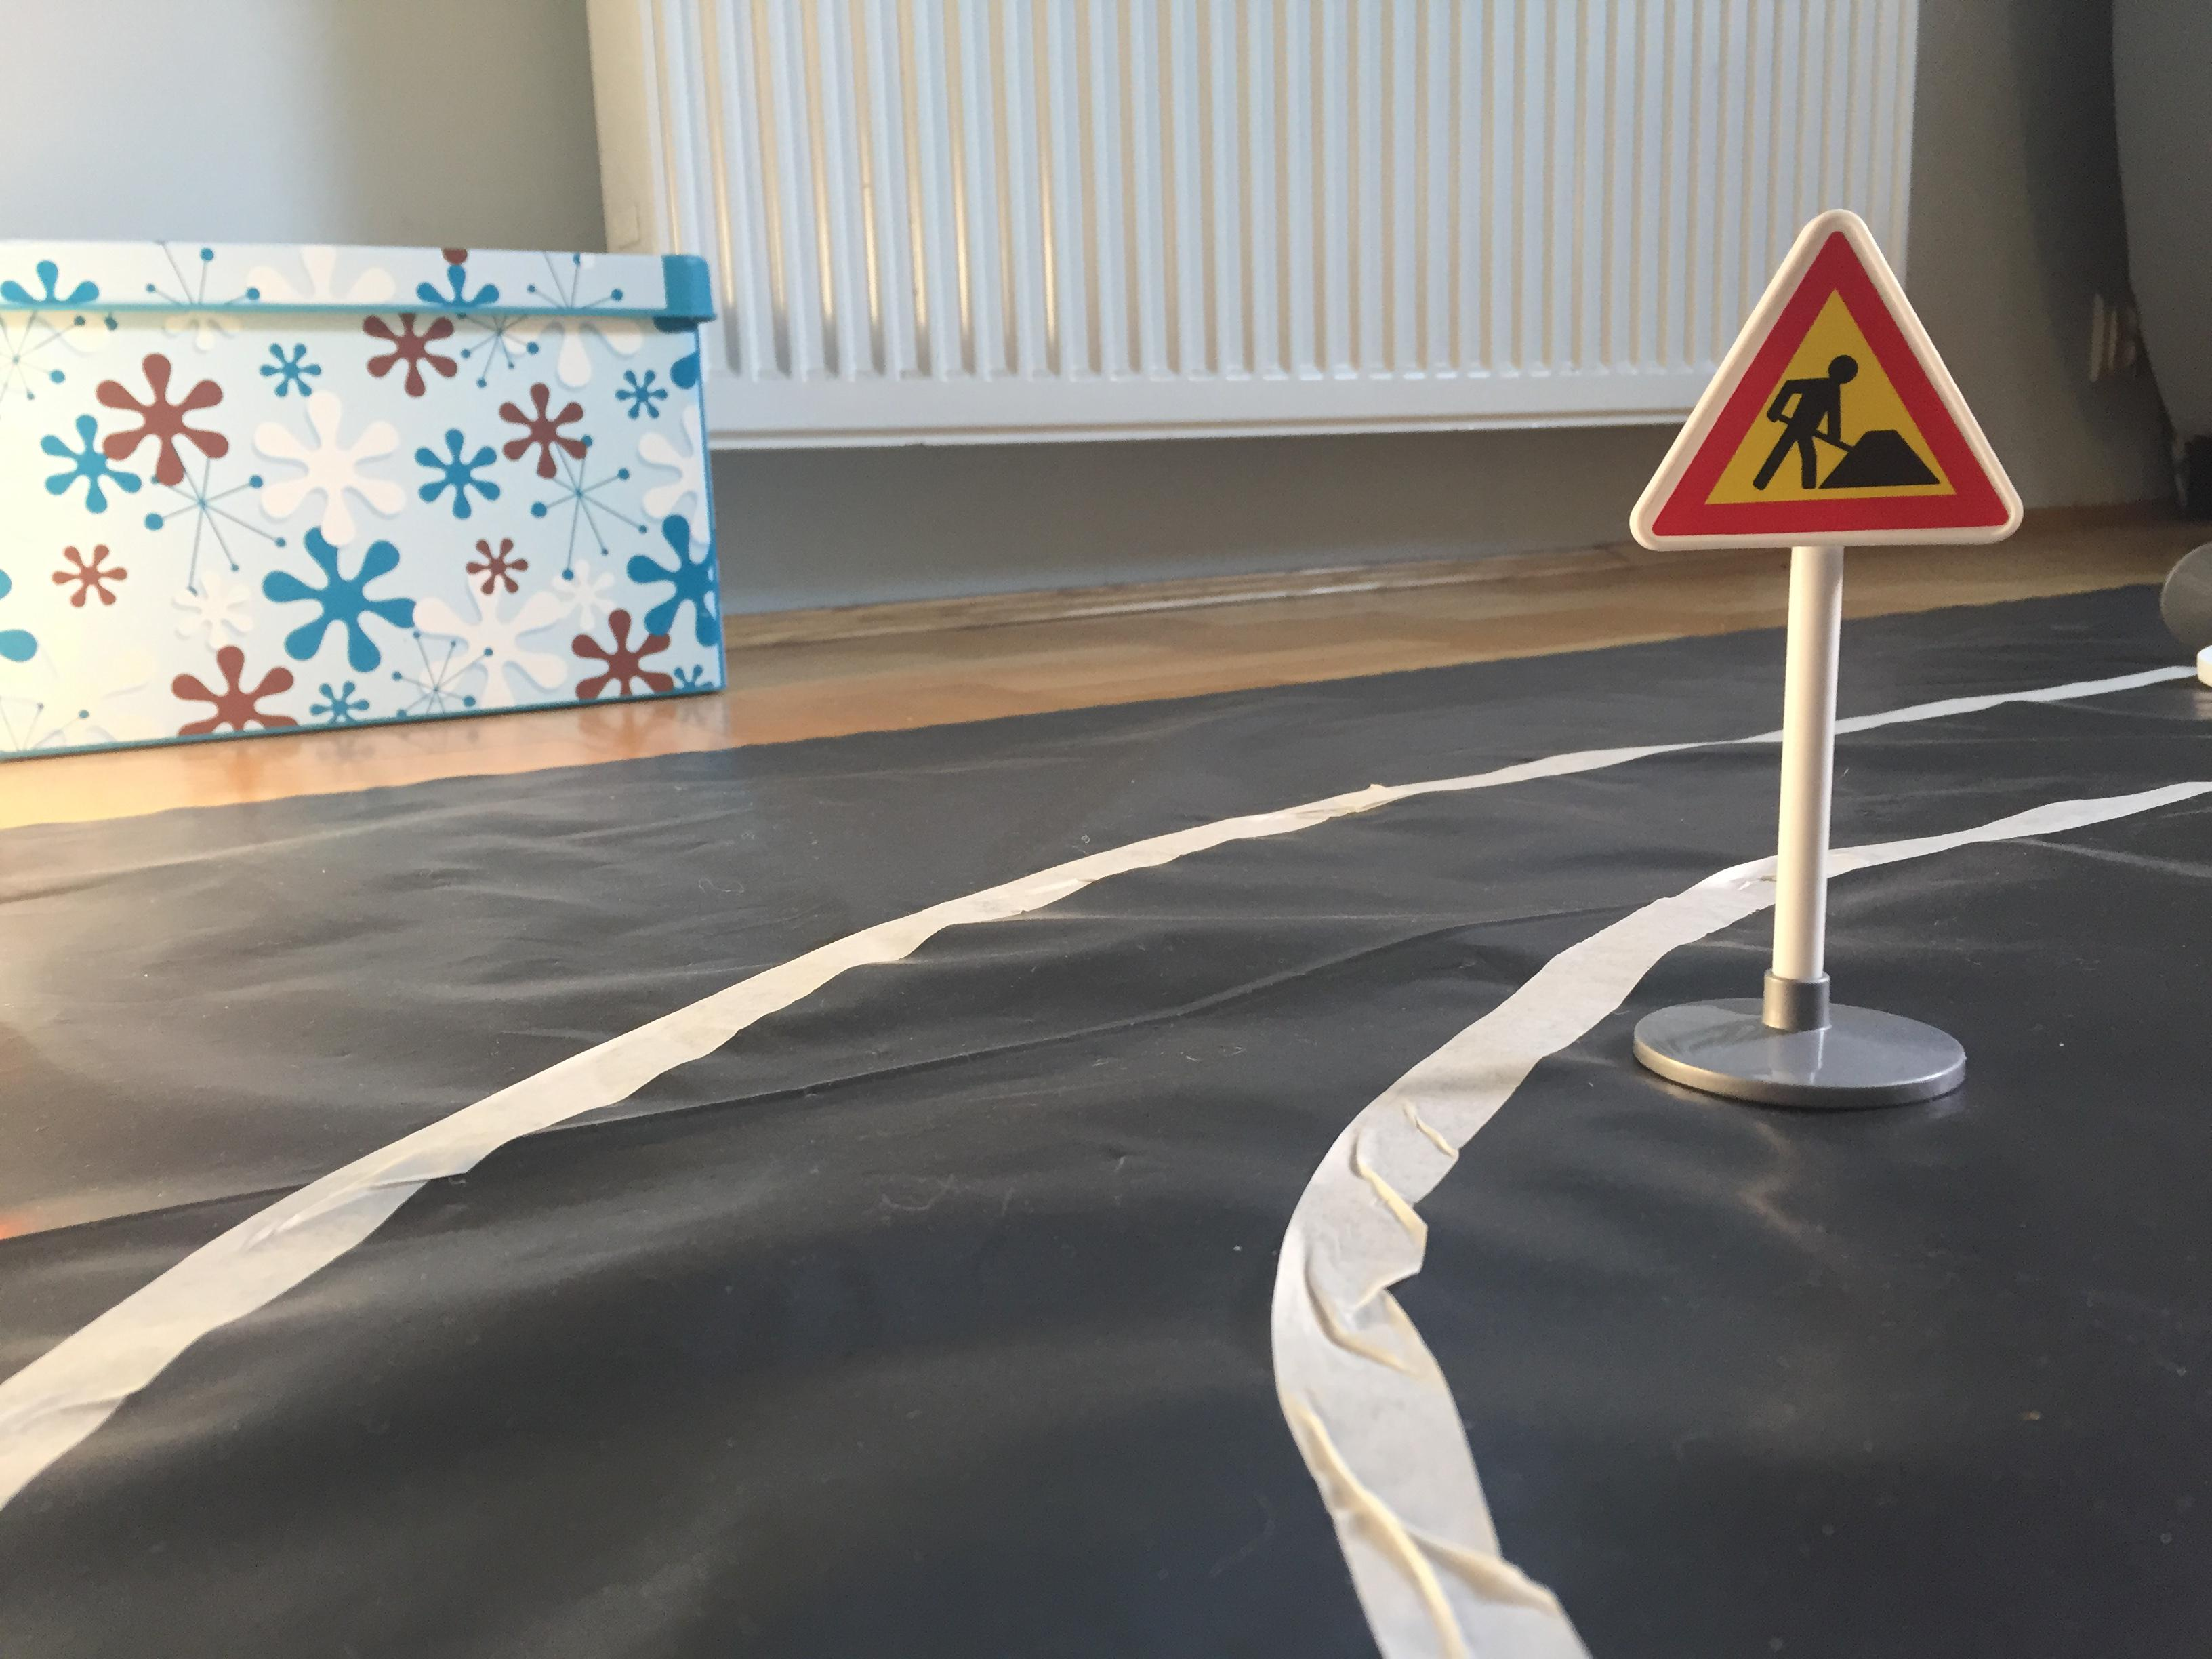work: (1622, 193, 2048, 579)
